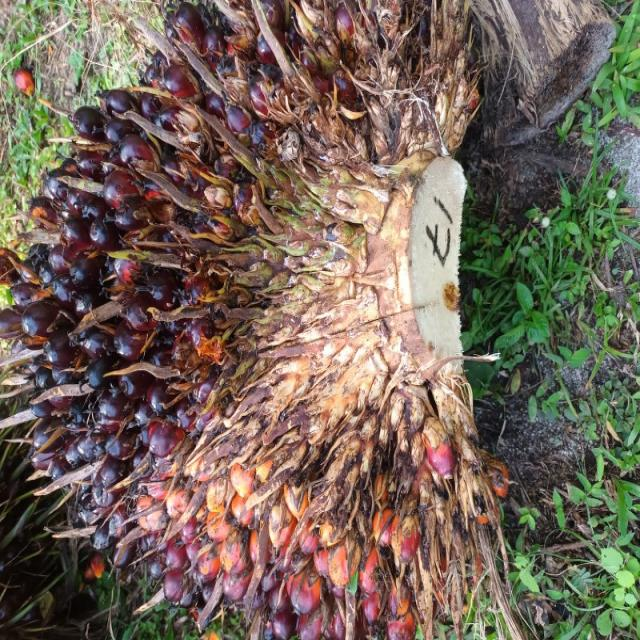fraksi 00: (18, 45, 480, 640)
